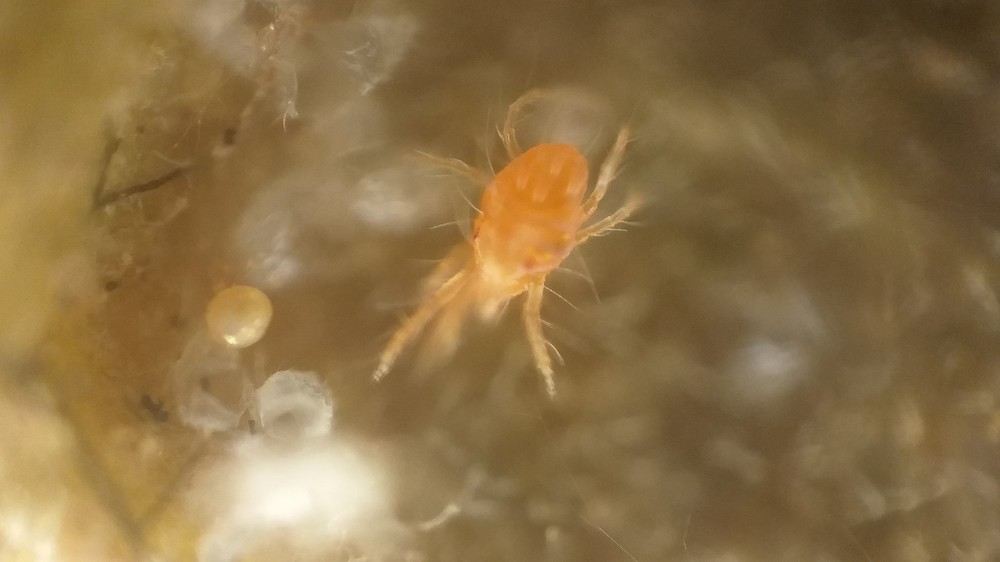Aracnido Rojo: (366, 83, 648, 425)
